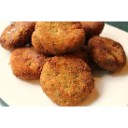cutlet: (41, 57, 95, 103), (33, 23, 85, 53), (90, 37, 128, 73), (11, 46, 43, 81), (1, 20, 30, 46)
